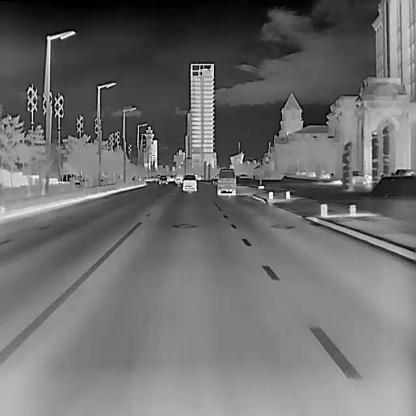car: (216, 168, 235, 196), (181, 174, 196, 192), (174, 172, 184, 184), (157, 173, 166, 184)
